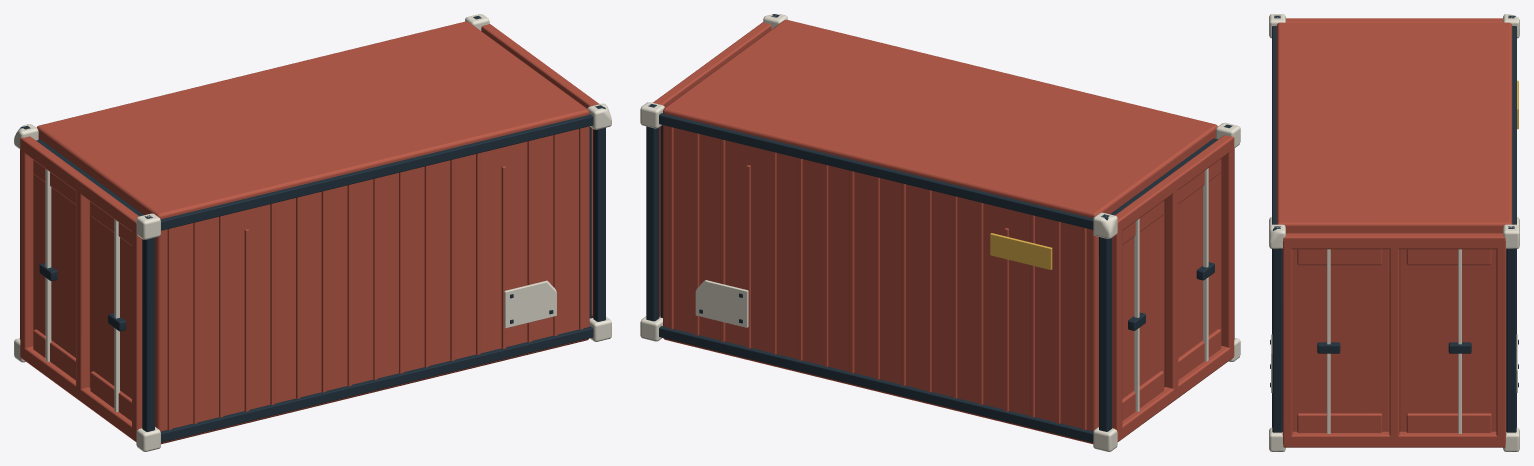
File: container_red.glb
3 renders of one model, left to right at view 1: azimuth 30°, elevation 25°; view 2: azimuth 150°, elevation 25°; view 3: azimuth 270°, elevation 25°, orthographic. The views are drawn at different scales.
Parts seen in each view (by area): view 1: container_red_red, container_red_ink, container_red_cream; view 2: container_red_red, container_red_ink, container_red_cream, placard.001; view 3: container_red_red, container_red_ink, container_red_cream.
Boxes of the visible parts, x1,y1,x2,y2 form: container_red_red: (20, 21, 598, 444); container_red_ink: (20, 15, 605, 442); container_red_cream: (14, 14, 611, 451); container_red_red: (653, 20, 1234, 444); container_red_ink: (646, 14, 1234, 442); container_red_cream: (640, 14, 1240, 451); placard.001: (990, 233, 1052, 269); container_red_red: (1276, 18, 1512, 447); container_red_ink: (1270, 15, 1518, 432); container_red_cream: (1269, 14, 1519, 451).
Bounding box in the file's own units: 6.17 × 2.9 × 2.98.
